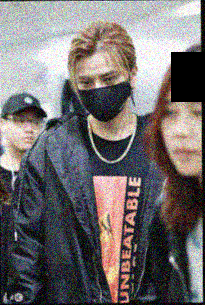with_mask: (75, 67, 132, 118)
without_mask: (158, 95, 202, 176), (5, 111, 43, 151)
